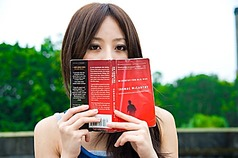face_mask: (74, 18, 131, 91)
